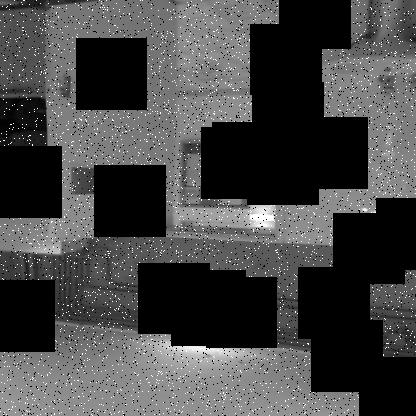Porte: (46, 1, 295, 246)
